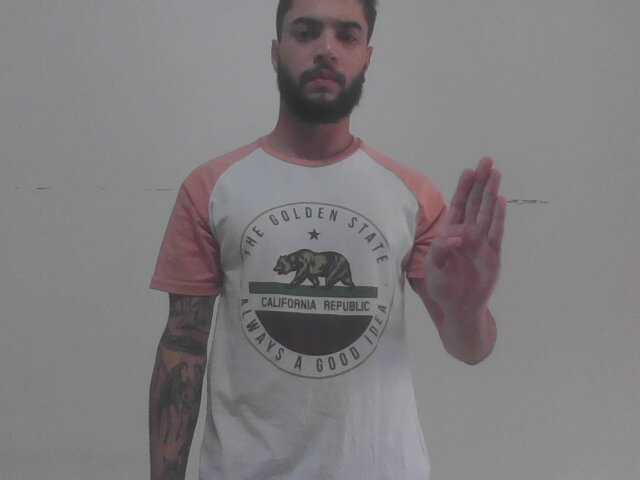b: (420, 151, 509, 322)
